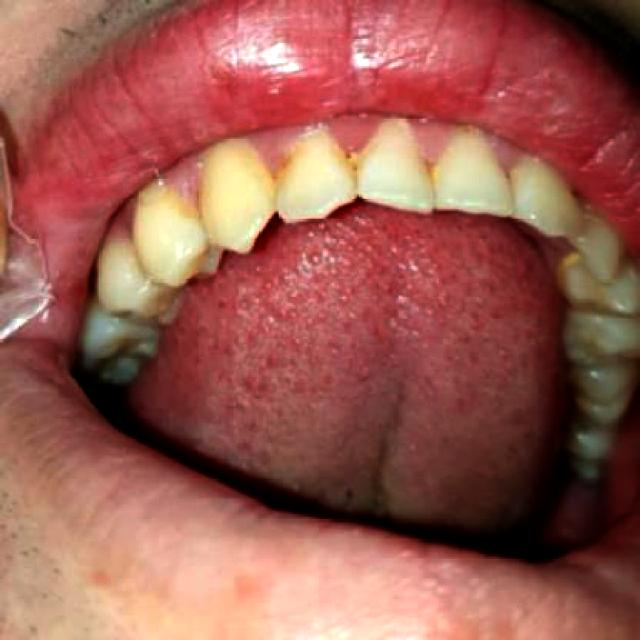Plaque: (182, 108, 428, 197)
